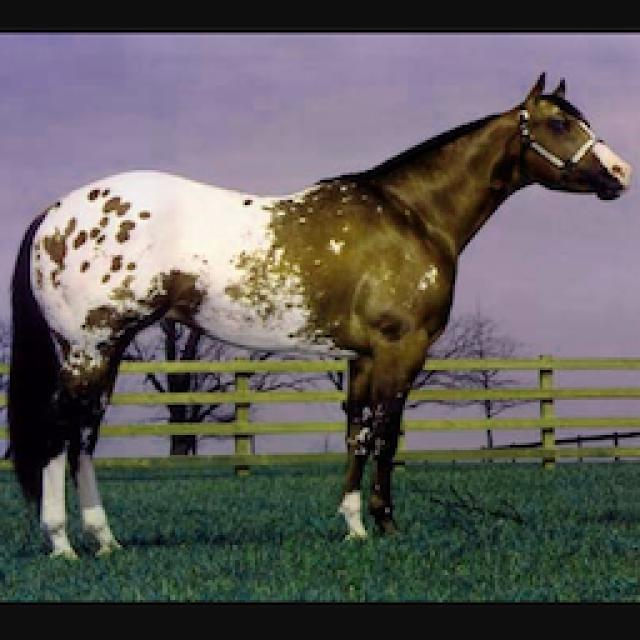Horse: (2, 65, 640, 565)
